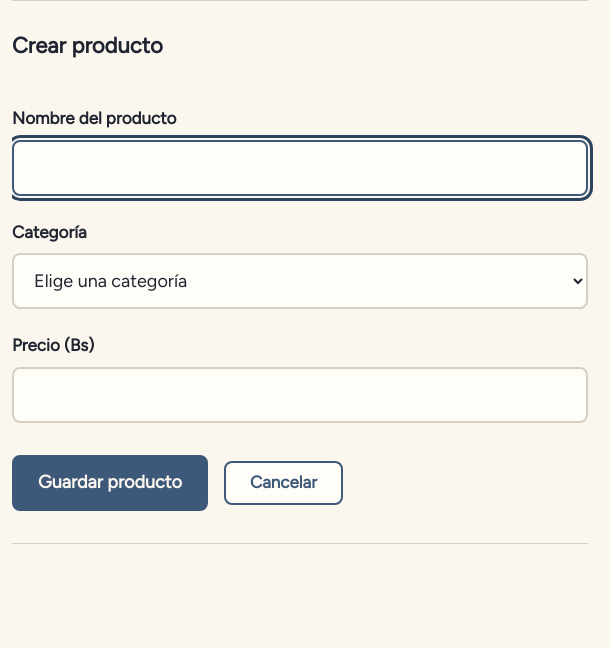
Test: formulario de producto (RF-4 a RF-6, RNF-4) › muestra un error de la API por campo y conserva lo escrito
Type keys "Café"
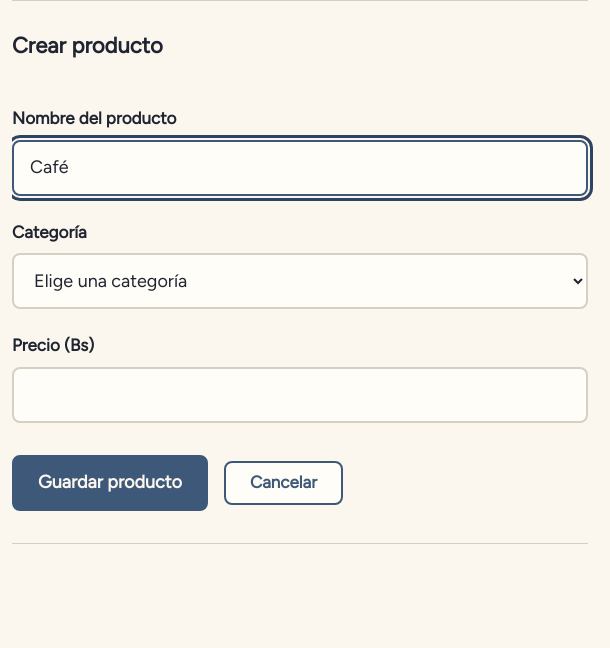
Type "0" into the field labelled "Precio (Bs)" at (300, 395), box [12,367,588,423]
Then press Enter
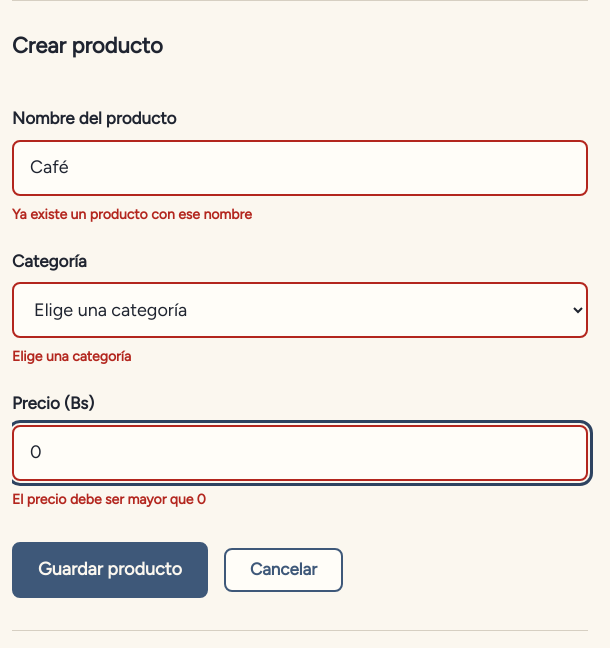
Result: the text "Ya existe un producto con ese nombre" is shown at [12,206,252,223]
Result: the text "Elige una categoría" is shown at [12,348,131,365]
Result: the text "El precio debe ser mayor que 0" is shown at [12,491,206,508]
